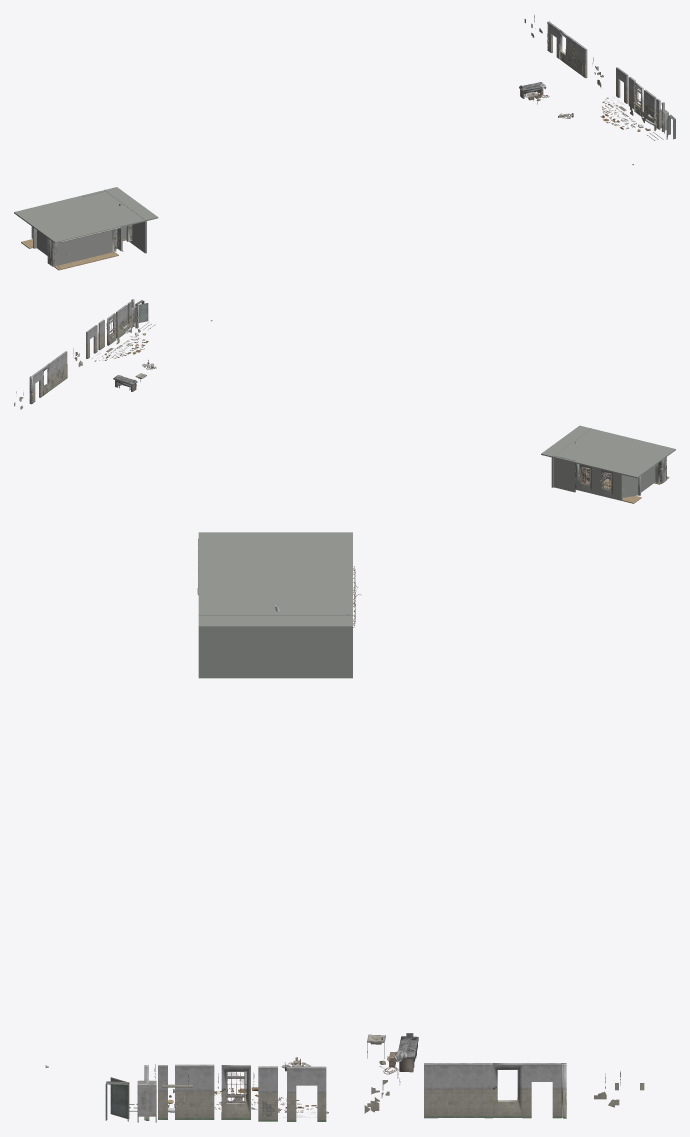
File: tombs.glb
3 views of the same model, one above another, from view 1: azimuth 30°, elevation 25°; view 2: azimuth 150°, elevation 25°; view 3: azimuth 270°, elevation 25° (orthographic). The views are drawn at different scales.
Parts seen in each view (by area): view 1: Cube_001, Cube_004, SM_CustomFloor_01_01_001, SM_Wall_200cmx300cm_02_005, SM_Wall_200cmx300cm_02_006, SM_Wall_200cmx300cm_02_004; view 2: Cube_001, Cube_005, SM_Wall_200cmx300cm_02_008; view 3: Cube_001, Cube_004, SM_Wall_200cmx300cm_02_009, SM_Wall_200cmx300cm_02_008, SM_Doorway_200cmx300cm_01_002, SM_Doorway_200cmx300cm_01_003, SM_Wall_100cmx300cm_01_010, SM_Wall_100cmx300cm_01_011, SM_WallWindow_150cmx300cm_01_005, SM_WallWindow_150cmx300cm_01_003.
Part boxes in pixels (box(x1,y1,x2,y2)): Cube_001: box(14, 187, 158, 243); Cube_004: box(104, 189, 146, 253); SM_CustomFloor_01_01_001: box(21, 239, 118, 270); SM_Wall_200cmx300cm_02_005: box(75, 235, 93, 261); SM_Wall_200cmx300cm_02_006: box(57, 239, 75, 265); SM_Wall_200cmx300cm_02_004: box(93, 230, 111, 256); Cube_001: box(541, 425, 675, 478); Cube_005: box(554, 455, 575, 492); SM_Wall_200cmx300cm_02_008: box(116, 305, 127, 338); Cube_001: box(198, 532, 352, 628); Cube_004: box(198, 614, 352, 678); SM_Wall_200cmx300cm_02_009: box(434, 1063, 473, 1118); SM_Wall_200cmx300cm_02_008: box(175, 1064, 214, 1119); SM_Doorway_200cmx300cm_01_002: box(287, 1066, 326, 1121); SM_Doorway_200cmx300cm_01_003: box(522, 1063, 561, 1118); SM_Wall_100cmx300cm_01_010: box(258, 1066, 277, 1121); SM_Wall_100cmx300cm_01_011: box(473, 1063, 492, 1118); SM_WallWindow_150cmx300cm_01_005: box(493, 1063, 522, 1117); SM_WallWindow_150cmx300cm_01_003: box(221, 1065, 250, 1119).
Size of the model in its own units: 65.71 by 3.99 by 30.43.
35 materials, 33 textured.
